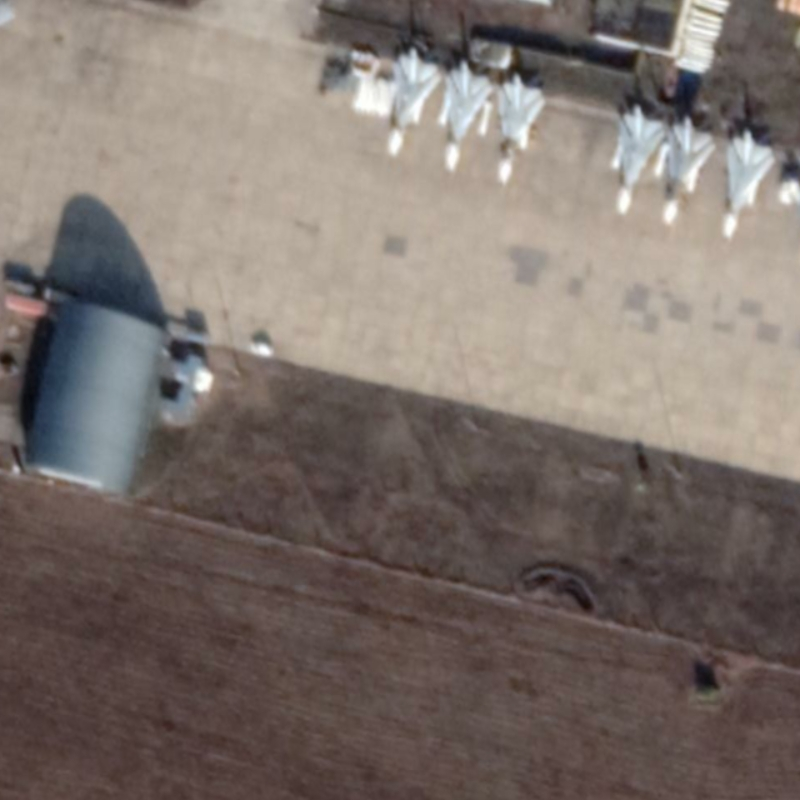A20: (384, 44, 442, 158), (660, 114, 719, 225), (720, 127, 778, 239), (613, 102, 668, 217), (495, 70, 548, 186), (442, 58, 494, 173)
